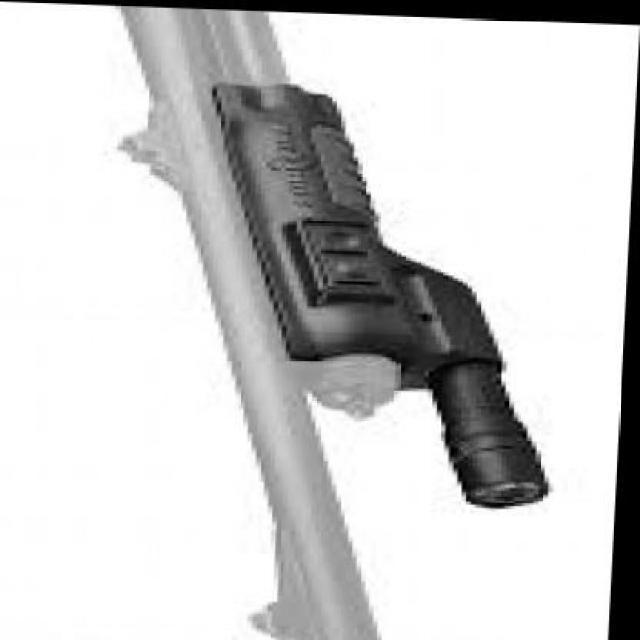weapon: (101, 3, 564, 637)
